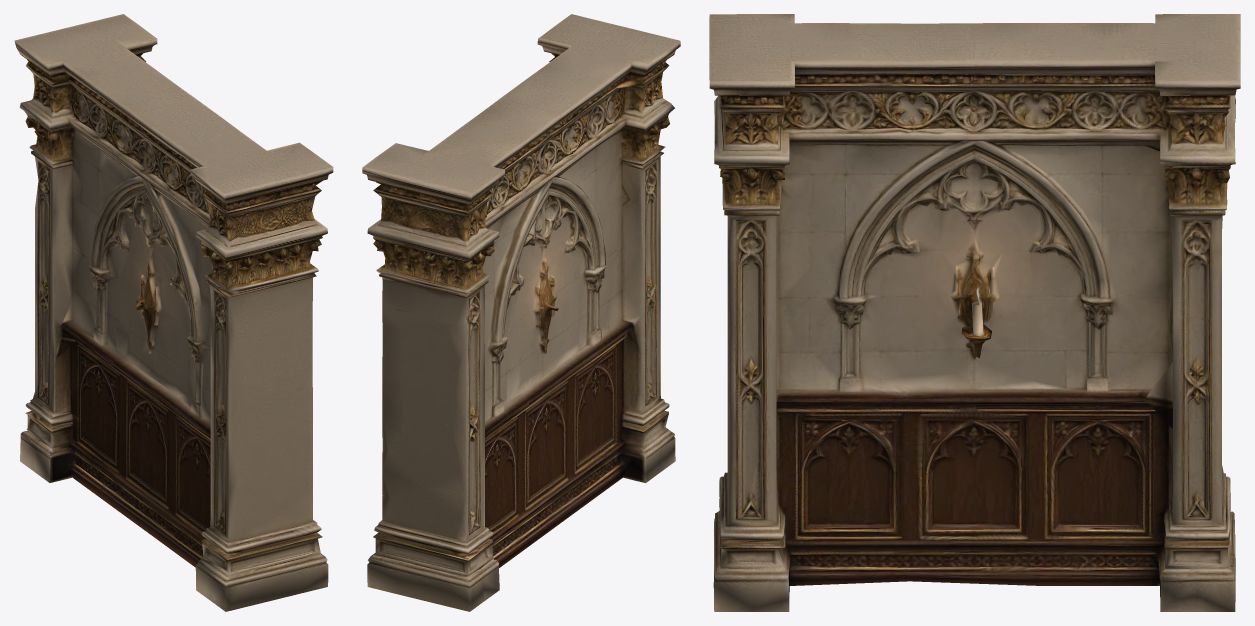
File: wall.glb
3 views of the same model, side by side, from view 1: azimuth 30°, elevation 25°; view 2: azimuth 150°, elevation 25°; view 3: azimuth 270°, elevation 25° (orthographic). The views are drawn at different scales.
Parts seen in each view (by area): view 1: tripo_node_2cd4b526-db32-4a27-a2e2-d3e3ccf52aae; view 2: tripo_node_2cd4b526-db32-4a27-a2e2-d3e3ccf52aae; view 3: tripo_node_2cd4b526-db32-4a27-a2e2-d3e3ccf52aae.
Boxes of the visible parts, <box> form: tripo_node_2cd4b526-db32-4a27-a2e2-d3e3ccf52aae: <box>14,14,333,611</box>; tripo_node_2cd4b526-db32-4a27-a2e2-d3e3ccf52aae: <box>362,14,680,611</box>; tripo_node_2cd4b526-db32-4a27-a2e2-d3e3ccf52aae: <box>709,14,1240,611</box>.
Bounding box in the file's own units: 0.3167 × 0.9792 × 0.8856.
1 material, 1 textured.
